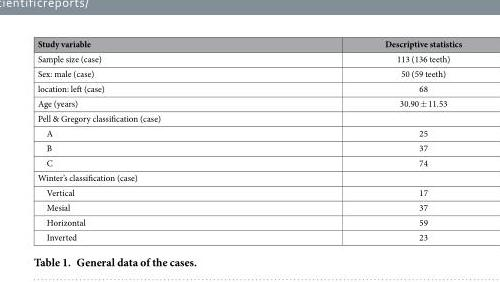table: (36, 37, 461, 242)
table column: (36, 37, 272, 242), (272, 37, 461, 242)
table column header: (36, 37, 461, 50)
table projected row header: (36, 110, 461, 125), (36, 169, 461, 184)
table row: (36, 50, 461, 65), (36, 65, 461, 80), (36, 80, 461, 95), (36, 95, 461, 110), (36, 110, 461, 125), (36, 125, 461, 140), (36, 154, 461, 169), (36, 169, 461, 184), (36, 184, 461, 199), (36, 199, 461, 214), (36, 214, 461, 229), (36, 140, 461, 154), (36, 37, 461, 50), (36, 229, 461, 242)
